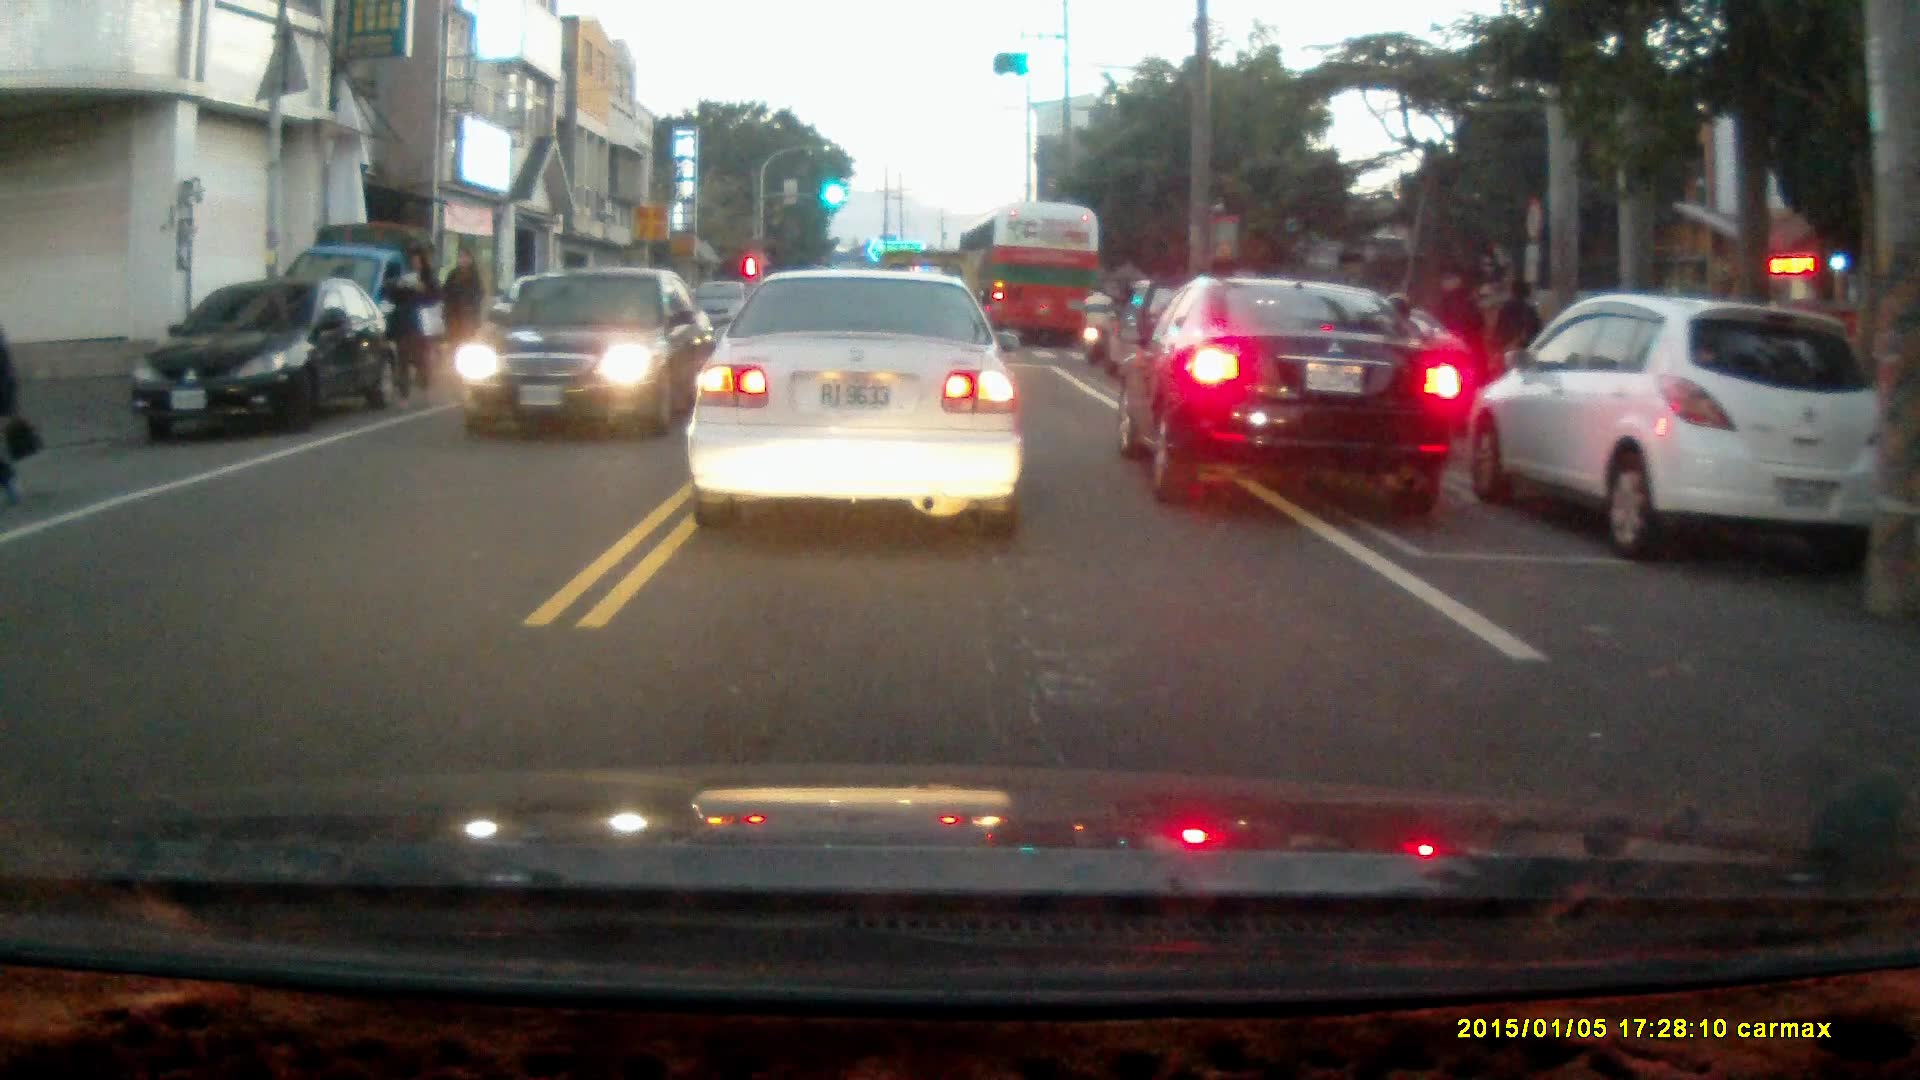pedestrian: (388, 247, 442, 403), (438, 244, 484, 398), (1487, 280, 1535, 406), (1440, 278, 1484, 396)
rider: (1075, 285, 1116, 367)
vehicle: (1457, 290, 1903, 561), (685, 264, 1028, 541), (1130, 278, 1469, 509), (454, 266, 704, 437), (131, 275, 388, 440), (270, 229, 477, 398), (960, 206, 1098, 348)
